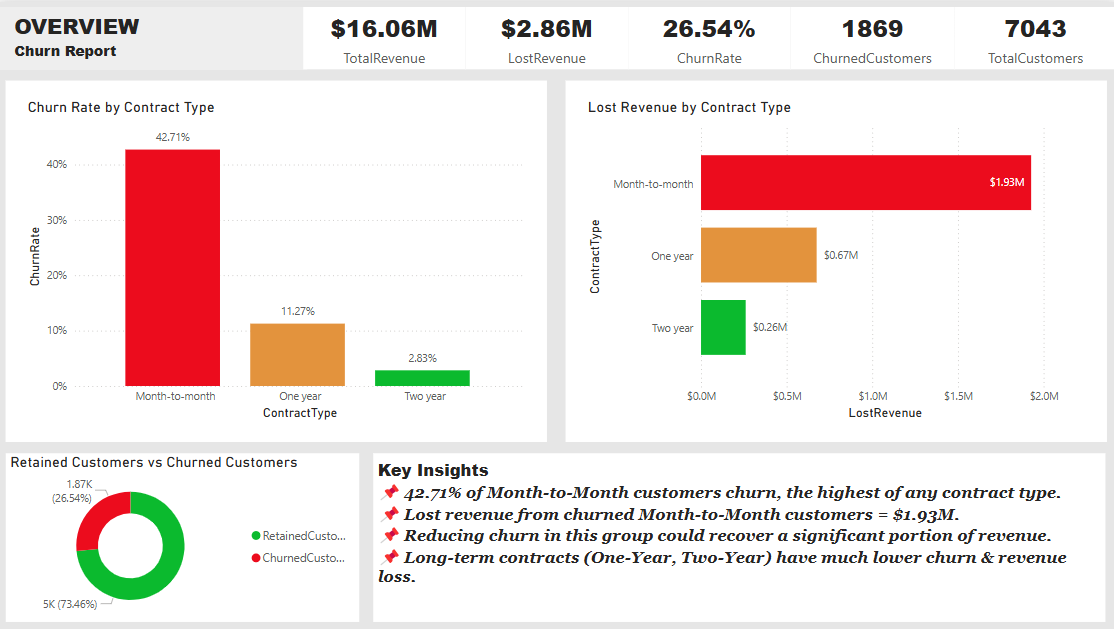

The dashboard page shown, as its layout file describes it:
{"tool":"powerbi","page":{"name":"Overview","canvas":[1280,720],"ordinal":0},"visuals":[{"type":"card","fields":{"Values":["Customers.TotalCustomers"]},"box":[1094.3,5,185.7,71.4],"z":0},{"type":"card","fields":{"Values":["Churn.ChurnRate"]},"box":[721.4,5.7,185.7,71.4],"z":1000},{"type":"card","fields":{"Values":["Churn.LostRevenue"]},"box":[535.7,5.7,185.7,71.4],"z":2000},{"type":"clusteredColumnChart","title":"Churn Rate by Contract Type","fields":{"Category":["Contracts.ContractType"],"Y":["Churn.ChurnRate"]},"box":[10,90,618.6,412.9],"z":3000},{"type":"card","fields":{"Values":["Billings.TotalRevenue"]},"box":[350,5,185.7,71.4],"z":4000},{"type":"textbox","box":[0,5,354.7,72],"z":5000},{"type":"card","fields":{"Values":["Churn.ChurnedCustomers"]},"box":[907.1,5.7,187.1,71.4],"z":6000},{"type":"barChart","title":"Lost Revenue by Contract Type","fields":{"Category":["Contracts.ContractType"],"Y":["KPI.LostRevenue"]},"box":[650,90,618,412.9],"z":7000},{"type":"textbox","box":[430,515.7,837.1,192.9],"z":8000},{"type":"donutChart","title":"Retained Customers vs Churned Customers","fields":{"Y":["KPI.RetainedCustomers","KPI.ChurnedCustomers"]},"box":[10,515.7,404.3,192.9],"z":9000}]}

Visuals, with their boxes in screenshot pixels (x1, y1, x2, y2), scaled from the page's 1280x720 canvas onto the 1114x629 screenshot:
card - Customers.TotalCustomers: bbox=[952, 4, 1113, 67]
card - Churn.ChurnRate: bbox=[628, 5, 789, 67]
card - Churn.LostRevenue: bbox=[466, 5, 628, 67]
"Churn Rate by Contract Type" clusteredColumnChart: bbox=[9, 79, 547, 439]
card - Billings.TotalRevenue: bbox=[305, 4, 466, 67]
textbox: bbox=[0, 4, 309, 67]
card - Churn.ChurnedCustomers: bbox=[789, 5, 952, 67]
"Lost Revenue by Contract Type" barChart: bbox=[566, 79, 1104, 439]
textbox: bbox=[374, 451, 1103, 619]
"Retained Customers vs Churned Customers" donutChart: bbox=[9, 451, 361, 619]
